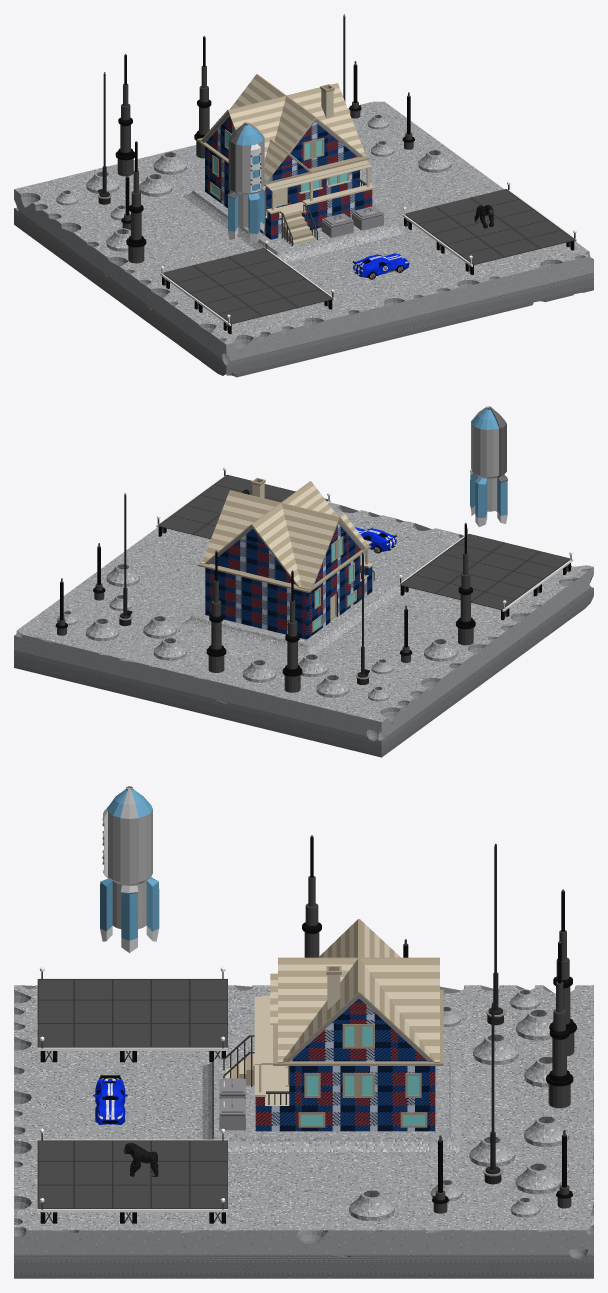
The picture shows the model from 3 angles, top to bottom: view 1: azimuth 30°, elevation 25°; view 2: azimuth 150°, elevation 25°; view 3: azimuth 270°, elevation 25°; orthographic projection. The views are drawn at different scales.
Parts seen in each view (by area): view 1: Cube.027, Cube.171, Cube.025, Cube.026, OBJRANDOM_ROCKETSHIP, Cube.028, Cylinder.021, Cylinder.020, VEHICLES_RACING_CAR, Cylinder.017, Cube.029, Cube.030 (+5 smaller); view 2: Cube.027, Cube.171, Cube.025, OBJRANDOM_ROCKETSHIP, Cube.028, Cube.026, Cylinder.020, Cylinder.017, Cylinder.021, VEHICLES_RACING_CAR, Cylinder.028, Cylinder.025 (+8 smaller); view 3: Cube.027, Cube.171, Cube.025, Cube.026, Cube.028, OBJRANDOM_ROCKETSHIP, Cylinder.017, VEHICLES_RACING_CAR, Cylinder.020, Cylinder.021, Cylinder.031, Cylinder.033 (+9 smaller).
Part boxes in pixels (bbox=[...]): Cube.027: bbox=[14, 101, 593, 377]; Cube.171: bbox=[197, 74, 374, 245]; Cube.025: bbox=[160, 240, 334, 333]; Cube.026: bbox=[402, 181, 576, 274]; OBJRANDOM_ROCKETSHIP: bbox=[227, 122, 265, 242]; Cube.028: bbox=[183, 187, 405, 262]; Cylinder.021: bbox=[126, 141, 146, 263]; Cylinder.020: bbox=[115, 53, 134, 176]; VEHICLES_RACING_CAR: bbox=[352, 253, 409, 279]; Cylinder.017: bbox=[194, 36, 211, 158]; Cube.029: bbox=[321, 213, 353, 237]; Cube.030: bbox=[352, 206, 383, 230]; Cube.027: bbox=[14, 502, 593, 757]; Cube.171: bbox=[197, 478, 374, 639]; Cube.025: bbox=[398, 526, 573, 620]; OBJRANDOM_ROCKETSHIP: bbox=[470, 406, 507, 527]; Cube.028: bbox=[182, 576, 400, 655]; Cube.026: bbox=[156, 467, 330, 538]; Cylinder.020: bbox=[282, 570, 302, 692]; Cylinder.017: bbox=[206, 550, 226, 672]; Cylinder.021: bbox=[456, 523, 475, 645]; VEHICLES_RACING_CAR: bbox=[355, 527, 396, 553]; Cylinder.028: bbox=[316, 674, 349, 697]; Cylinder.025: bbox=[424, 638, 457, 661]; Cube.027: bbox=[14, 985, 593, 1278]; Cube.171: bbox=[223, 919, 443, 1131]; Cube.025: bbox=[37, 967, 227, 1062]; Cube.026: bbox=[37, 1128, 227, 1223]; Cube.028: bbox=[202, 1058, 460, 1151]; OBJRANDOM_ROCKETSHIP: bbox=[100, 786, 159, 952]; Cylinder.017: bbox=[546, 941, 573, 1108]; VEHICLES_RACING_CAR: bbox=[93, 1075, 127, 1124]; Cylinder.020: bbox=[549, 889, 576, 1056]; Cylinder.021: bbox=[302, 835, 321, 957]; Cylinder.031: bbox=[515, 1162, 561, 1194]; Cylinder.033: bbox=[349, 1189, 394, 1220].
Bounding box in the file's own units: 4000 × 2217 × 4000.
Materials: 33 (6 with a texture image).
